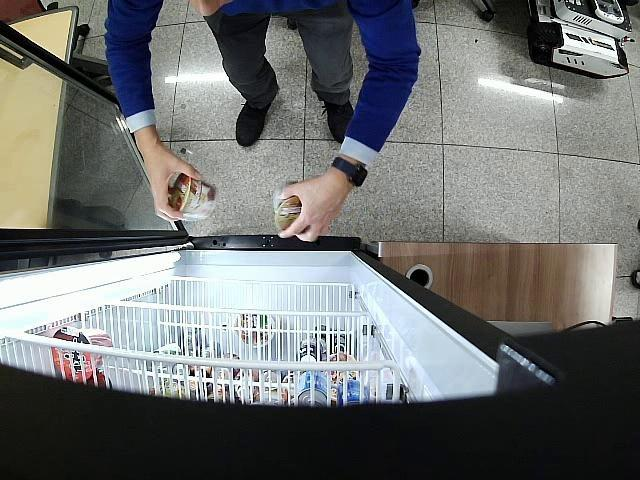04_chapagetti_S: (168, 173, 218, 221), (272, 180, 302, 232)
